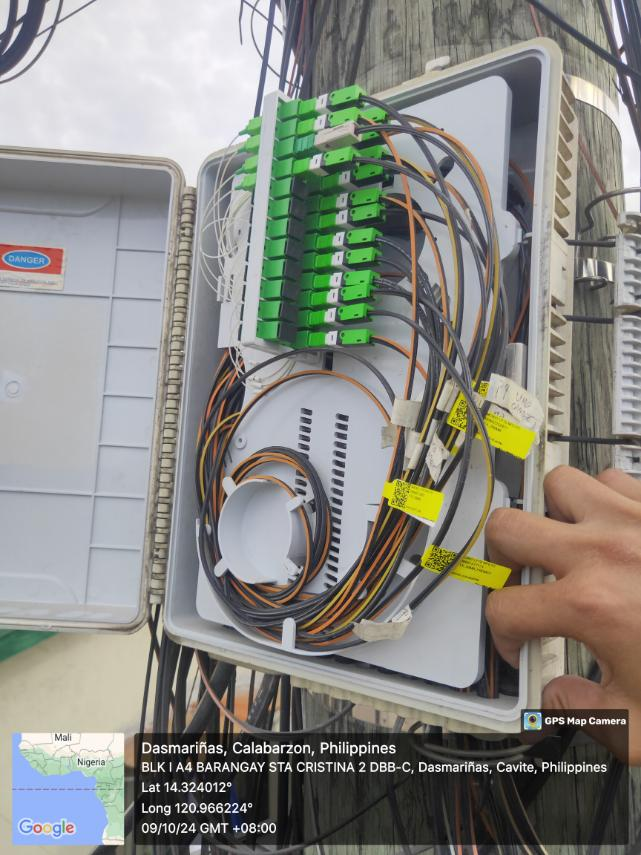occupied: (294, 117, 364, 155), (318, 101, 396, 132), (298, 81, 369, 113), (291, 143, 363, 173), (318, 165, 394, 193), (299, 104, 368, 133), (319, 148, 390, 176), (321, 203, 388, 230), (318, 129, 389, 154), (307, 302, 375, 327), (319, 188, 390, 211), (316, 245, 384, 268), (309, 282, 374, 304), (317, 227, 384, 247), (309, 326, 374, 346), (316, 269, 380, 287)
vacant: (280, 301, 300, 324), (285, 237, 304, 261), (283, 280, 303, 301), (287, 220, 306, 242), (280, 320, 298, 343), (288, 198, 307, 219), (285, 260, 303, 281), (292, 176, 308, 199)
